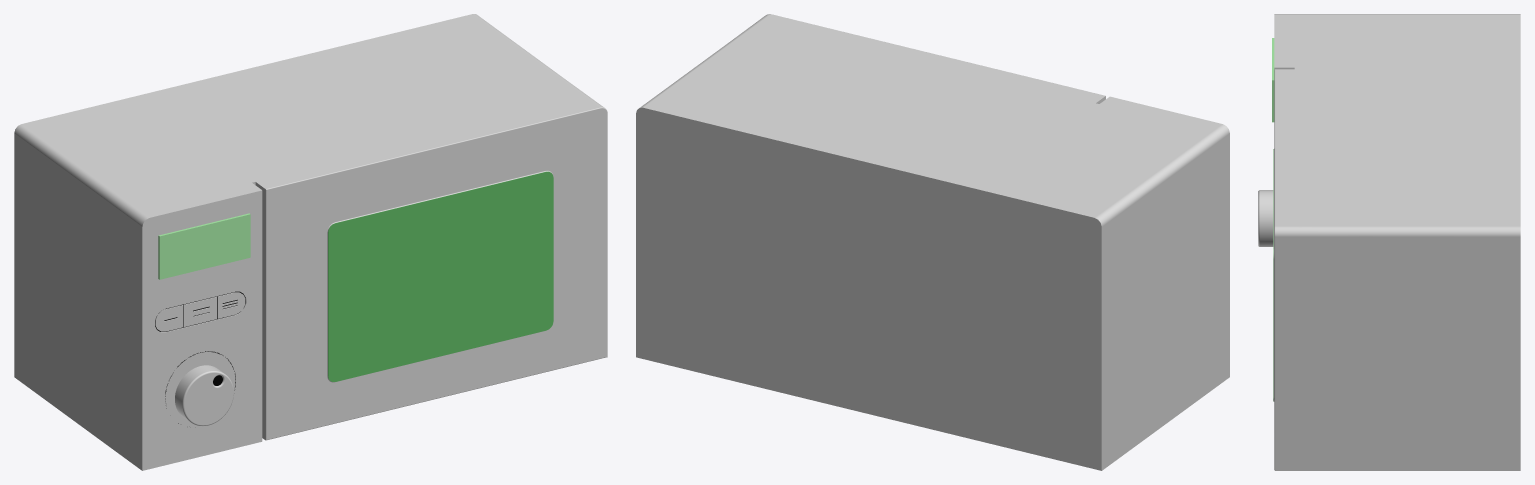
File: microwave.dae
The picture shows the model from 3 angles, left to right: view 1: azimuth 30°, elevation 25°; view 2: azimuth 150°, elevation 25°; view 3: azimuth 270°, elevation 25°; orthographic projection. The views are drawn at different scales.
Visible parts, largest first — view 1: mesh_1_mi, object 4, object 1; view 2: mesh_1_mi; view 3: mesh_1_mi.
Boxes of the visible parts, bbox=[...] form: mesh_1_mi: bbox=[14, 14, 607, 470]; object 4: bbox=[328, 171, 553, 381]; object 1: bbox=[158, 213, 250, 279]; mesh_1_mi: bbox=[636, 14, 1229, 470]; mesh_1_mi: bbox=[1258, 14, 1520, 470].
Bounding box in the file's own units: 0.64 × 0.325 × 0.35.
